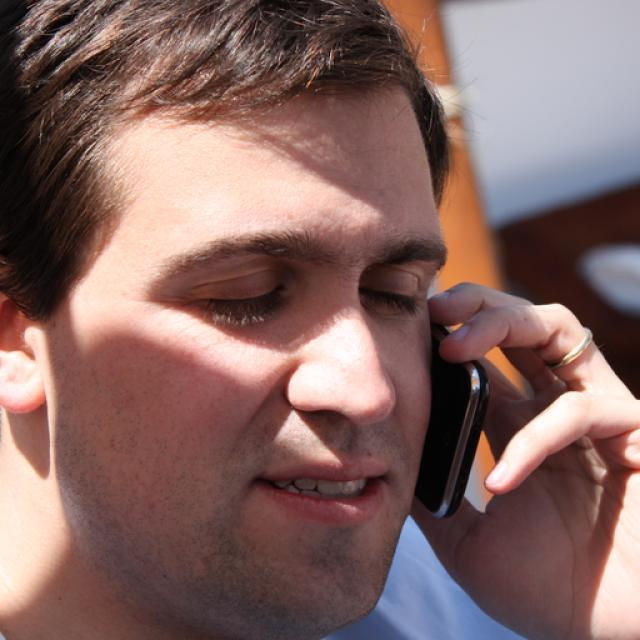disgust: (58, 74, 450, 640)
